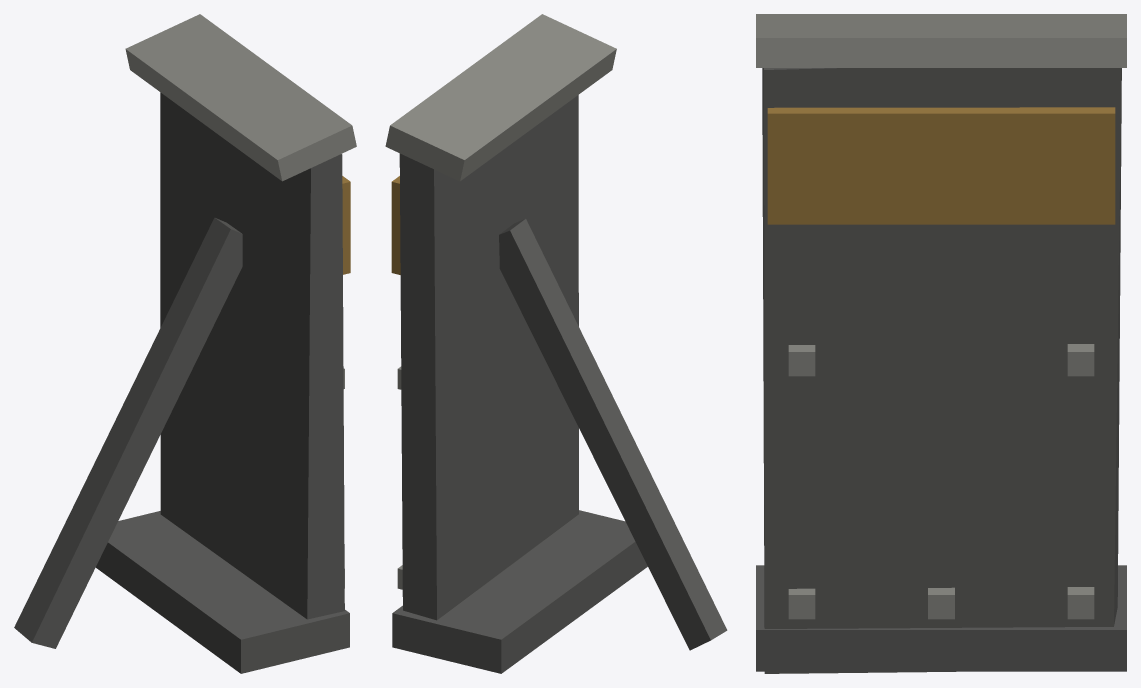
The model's file is arm_plate.glb.
The picture shows the model from 3 angles, left to right: view 1: azimuth 30°, elevation 25°; view 2: azimuth 150°, elevation 25°; view 3: azimuth 270°, elevation 25°; orthographic projection. The views are drawn at different scales.
Visible parts, largest first — view 1: arm_plate; view 2: arm_plate; view 3: arm_plate.
Boxes of the visible parts, <box> form: arm_plate: <box>14,14,356,673</box>; arm_plate: <box>385,14,727,673</box>; arm_plate: <box>756,14,1126,673</box>.
Size of the model in its own units: 0.4759 by 0.9211 by 0.484.
